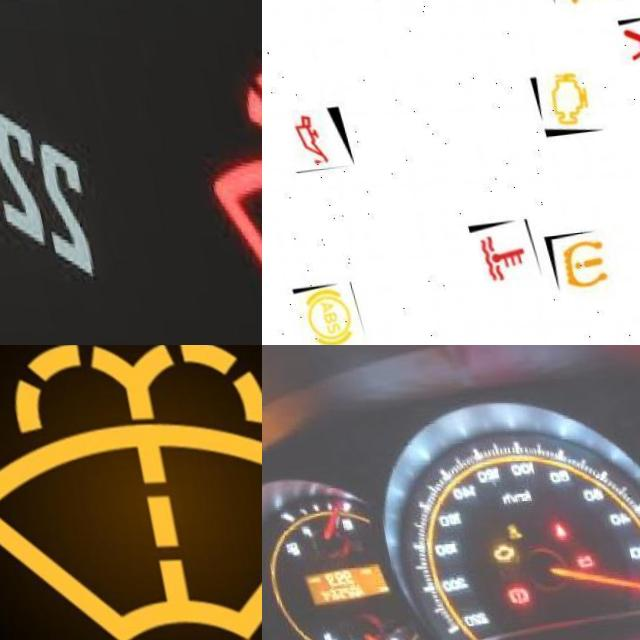High Engine Coolant Temperature: (294, 633, 320, 640)
Seat Belt: (536, 527, 552, 543)
Washer Fluid: (186, 68, 262, 345)
